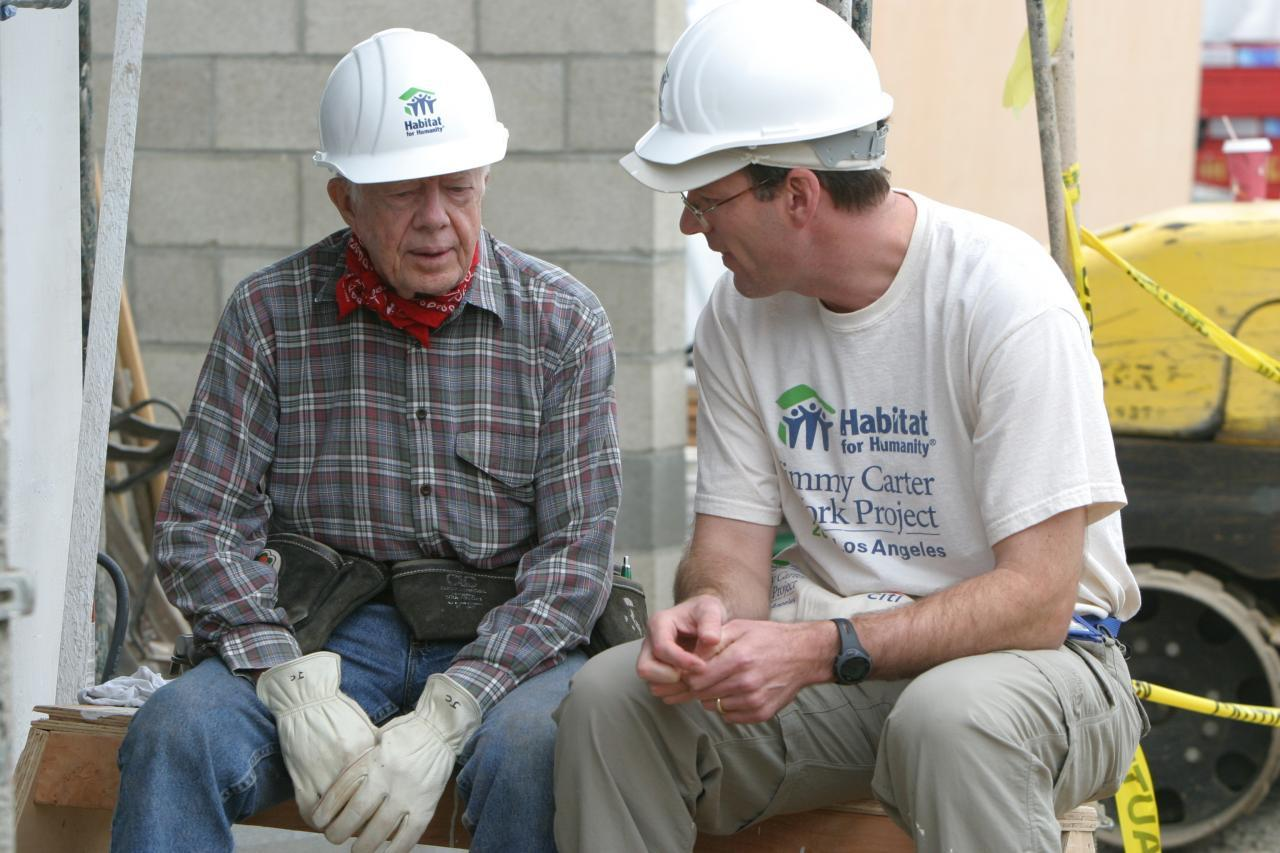helmet: (629, 1, 895, 194), (312, 30, 510, 184)
